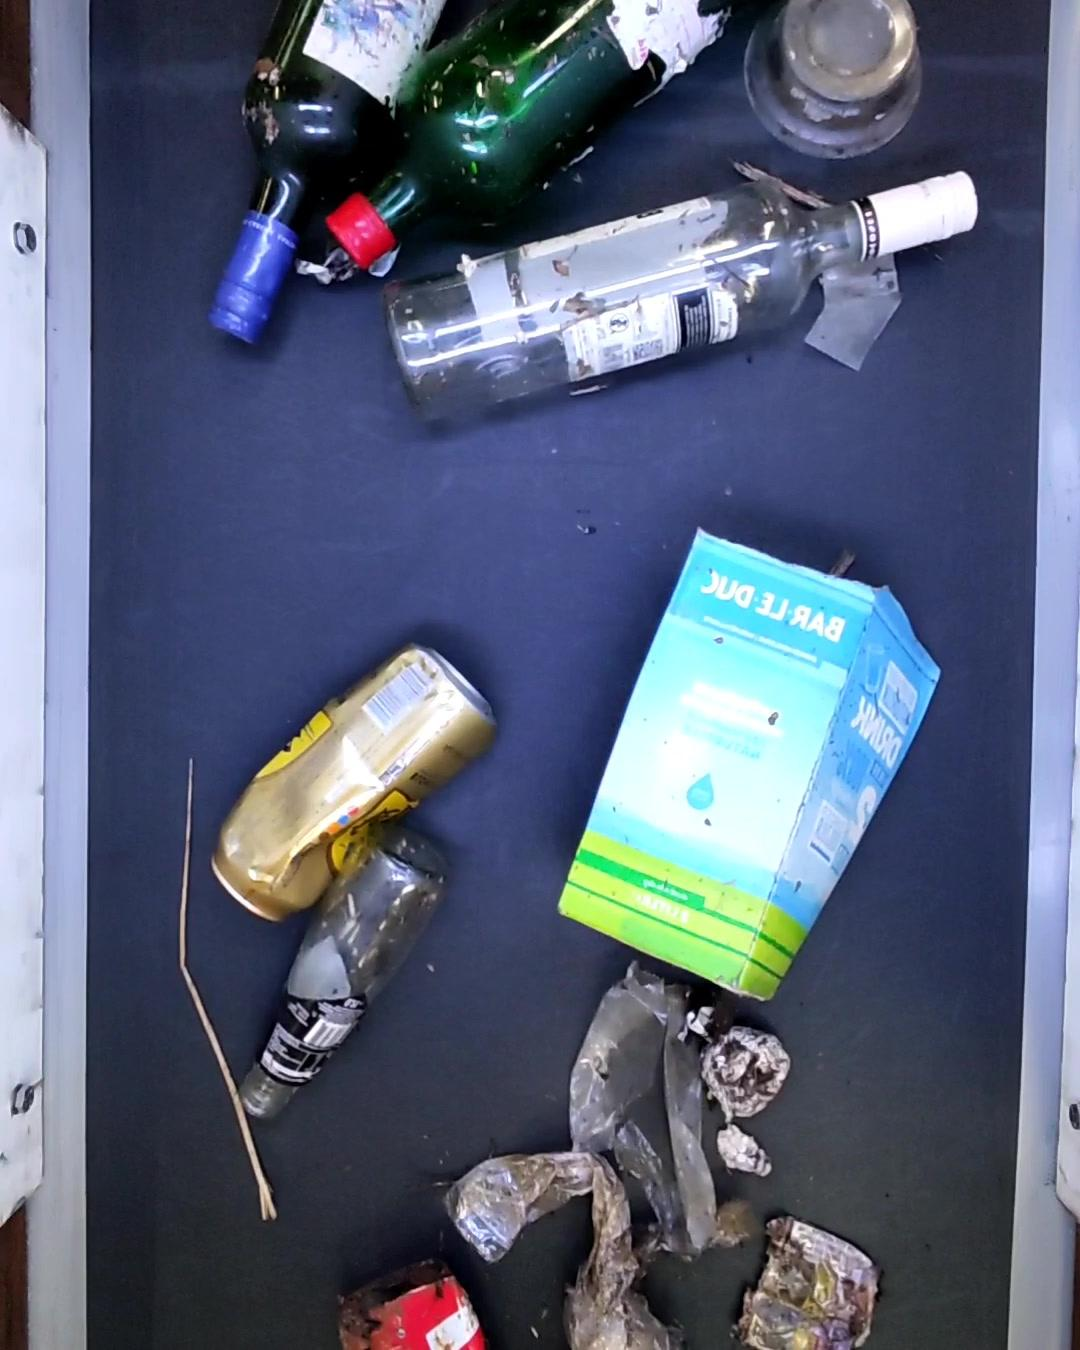Drankblikjes: (205, 644, 495, 924), (334, 1255, 490, 1350)
Plastic folies of stukken daarvan 2.5- 50 cm: (566, 961, 755, 1263), (440, 1142, 682, 1350), (797, 245, 898, 370)
Voedselverpakkingen: (735, 0, 924, 163)
